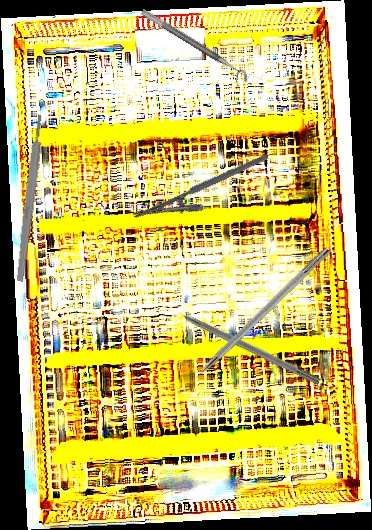Fixation Ring: (134, 7, 252, 91)
Hook Surgical: (174, 245, 332, 398), (165, 302, 322, 386)
Needle Holder: (132, 153, 277, 237)
Scalpel Handle: (14, 114, 46, 282)
